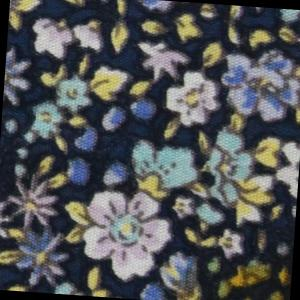Oil Stain: (202, 255, 293, 300)
